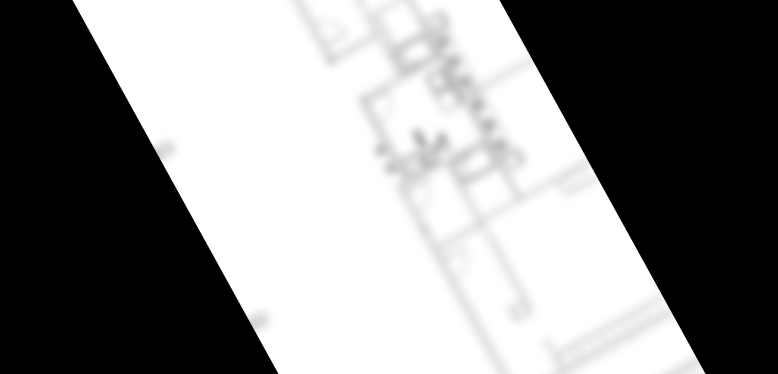door: (365, 86, 403, 125), (442, 244, 479, 283), (404, 177, 440, 214)
double door: (312, 10, 351, 52)
